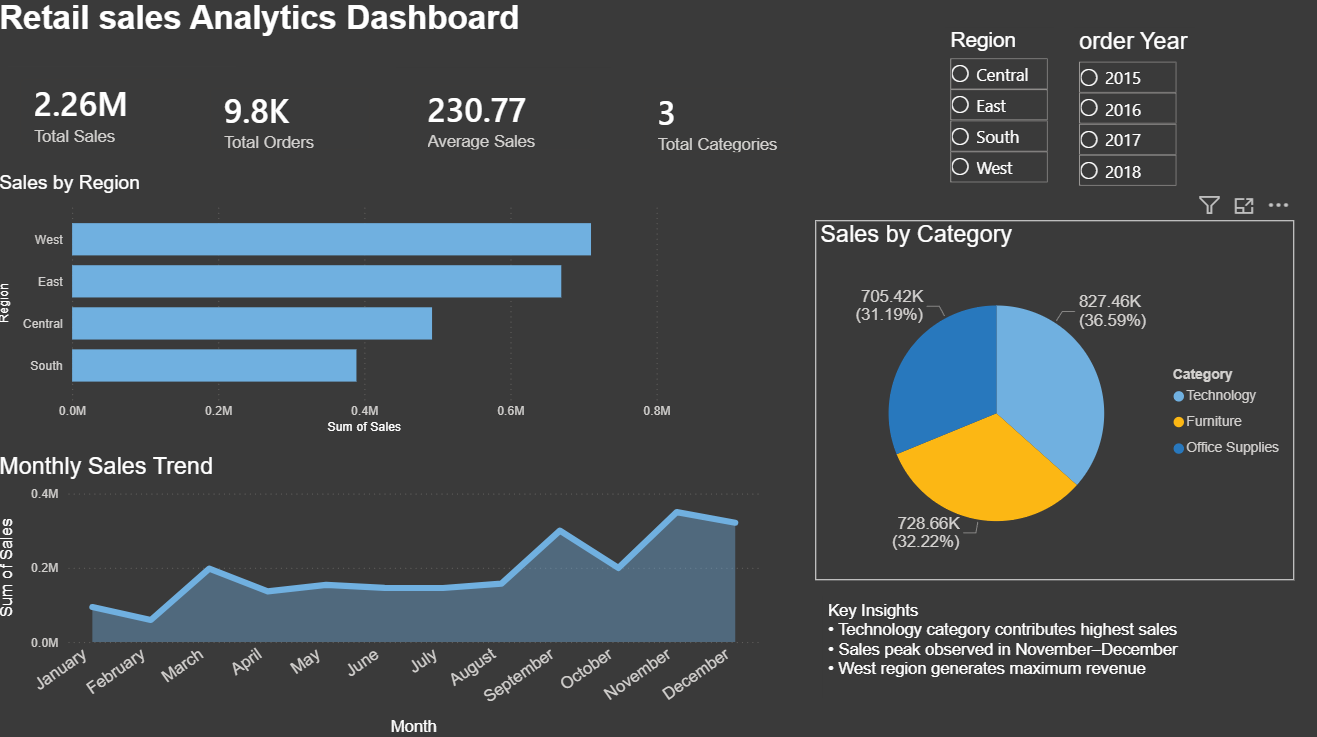

The dashboard page shown, as its layout file describes it:
{"tool":"powerbi","page":{"name":" Dashboard","canvas":[1280,720],"ordinal":0},"visuals":[{"type":"cardVisual","title":"Total Sales","fields":{"Data":["Sum(train.Sales)"]},"box":[8.4,65.1,230.4,98.9],"z":0},{"type":"clusteredBarChart","title":"Sales by Region","fields":{"Y":["Sum(train.Sales)"],"Category":["train.Region"]},"box":[0,171.3,658.7,258.2],"z":1000},{"type":"pieChart","title":" Sales by Category","fields":{"Y":["Sum(train.Sales)"],"Category":["train.Category"]},"box":[792.6,218.4,462.1,347.5],"z":2000},{"type":"lineChart","title":"Monthly Sales Trend","fields":{"Y":["Sum(train.Sales)"],"Category":["train.Order Date.Variation.Date Hierarchy.Month"]},"box":[0,442.8,743.2,277.5],"z":3000},{"type":"listSlicer","fields":{"Values":["train.Region"]},"box":[918.1,32.6,105,164.1],"z":4000},{"type":"listSlicer","fields":{"Values":["train.order Year"]},"box":[1042.4,32.6,117,165.3],"z":5000},{"type":"textbox","box":[0,0,561,50.7],"z":6000},{"type":"cardVisual","title":"Total Orders","fields":{"Data":["CountNonNull(train.Row ID)"]},"box":[191.8,73.6,188.2,94.1],"z":7000},{"type":"cardVisual","title":"Average Sales","fields":{"Data":["Avg(train.Sales)"]},"box":[388.5,71.2,206.3,97.7],"z":8000},{"type":"cardVisual","title":"Total Categories","fields":{"Data":["Count(train.Category)"]},"box":[610.5,73.6,181,97.7],"z":9000},{"type":"textbox","box":[799.9,581.5,453.6,97.7],"z":9001}]}

Visuals, with their boxes in screenshot pixels (x1, y1, x2, y2), scaled from the page's 1280x720 canvas onto the 1317x737 screenshot:
"Total Sales" cardVisual: <box>9,67,246,168</box>
"Sales by Region" clusteredBarChart: <box>0,175,678,440</box>
" Sales by Category" pieChart: <box>816,224,1291,579</box>
"Monthly Sales Trend" lineChart: <box>0,453,765,736</box>
listSlicer - train.Region: <box>945,33,1053,201</box>
listSlicer - train.order Year: <box>1073,33,1193,203</box>
textbox: <box>0,0,577,52</box>
"Total Orders" cardVisual: <box>197,75,391,172</box>
"Average Sales" cardVisual: <box>400,73,612,173</box>
"Total Categories" cardVisual: <box>628,75,814,175</box>
textbox: <box>823,595,1290,695</box>
